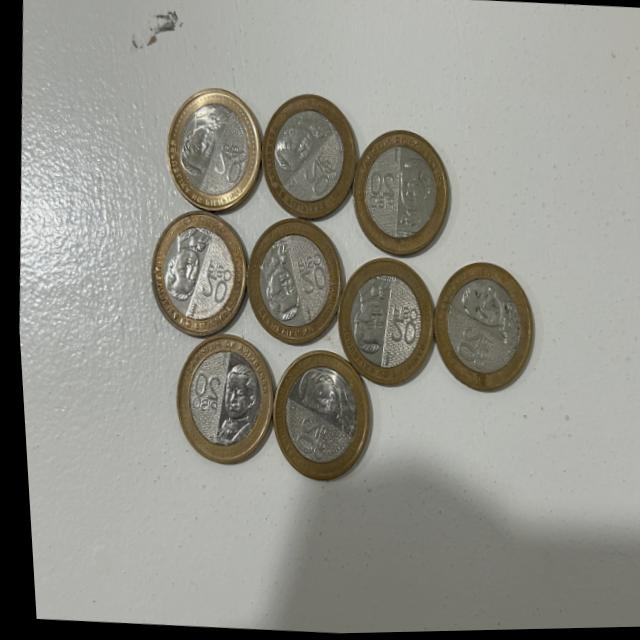20_New_Front: (281, 410, 335, 468), (294, 140, 340, 205), (178, 357, 220, 428), (209, 126, 252, 193), (288, 248, 330, 314), (190, 248, 231, 311), (381, 292, 417, 359), (357, 166, 397, 220), (448, 326, 484, 367)
